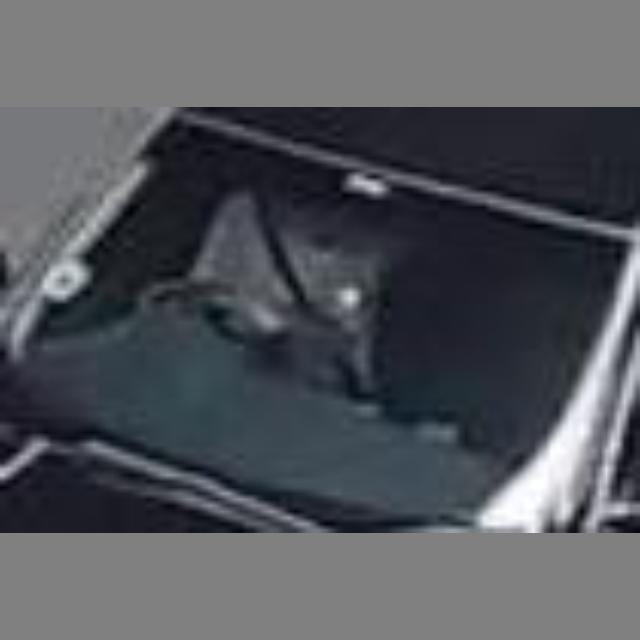pakai: (158, 174, 378, 400)
